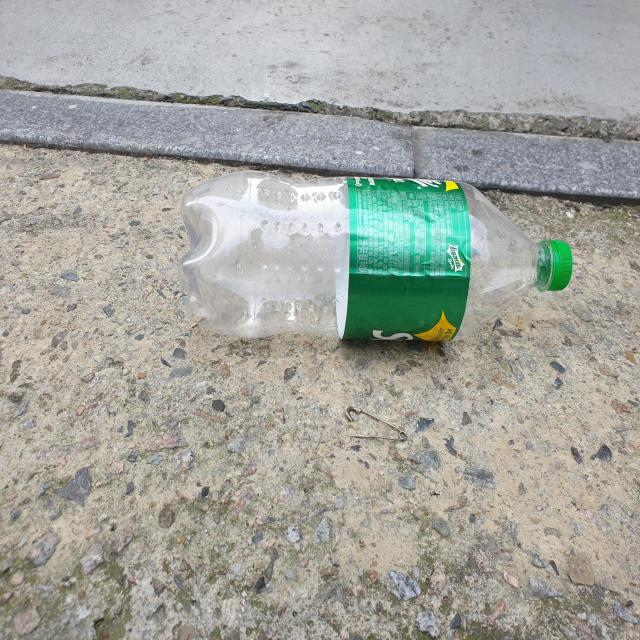plastic: (178, 170, 574, 341)
